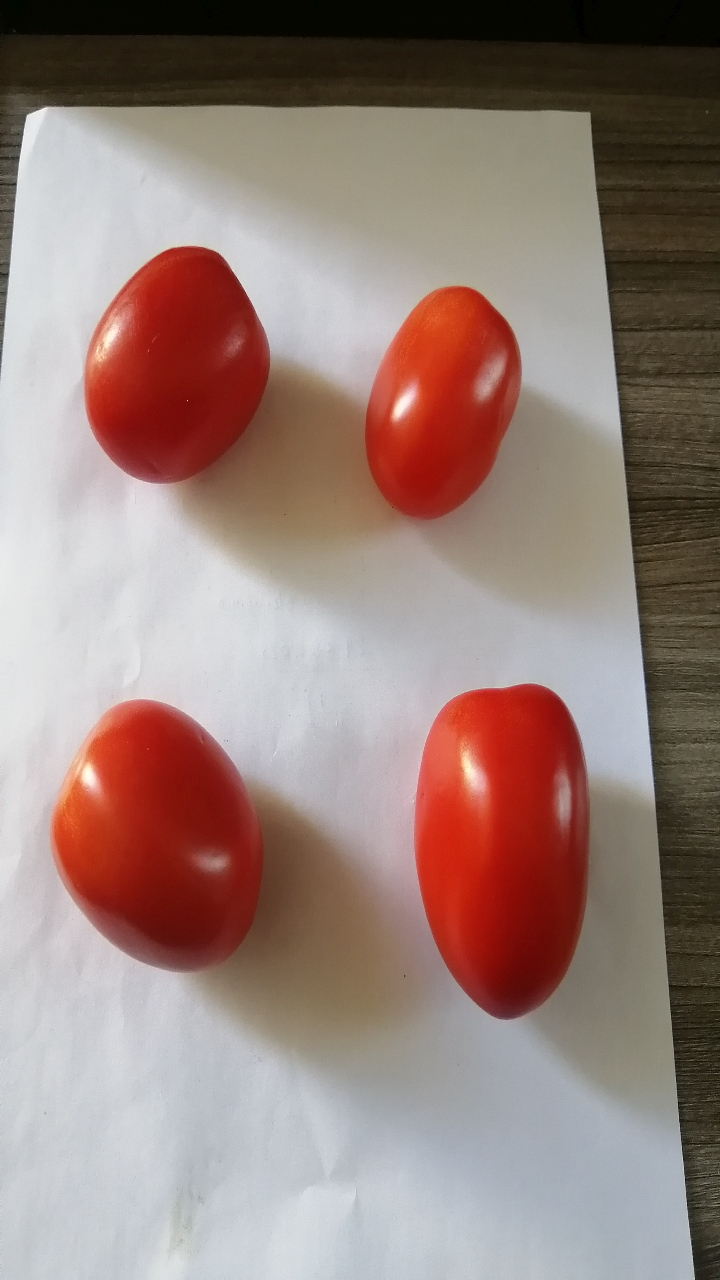tomateRojo: (384, 665, 611, 1042), (24, 672, 286, 994), (60, 217, 292, 486), (324, 260, 534, 554)
